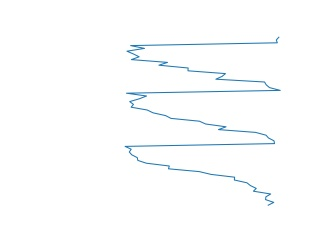distributaryMouthBar: (123, 36, 281, 207)
